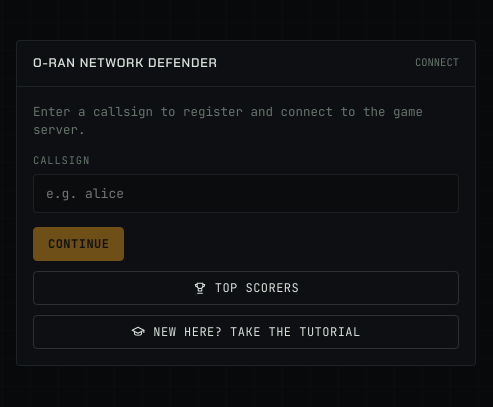
Test case: Lobby › surfaces API errors and generic network failures without changing steps
The image size is (493, 407).
Step 1. Type "alice" into the field with placeholder "e.g. alice" → (246, 194), box [33,174,459,213]
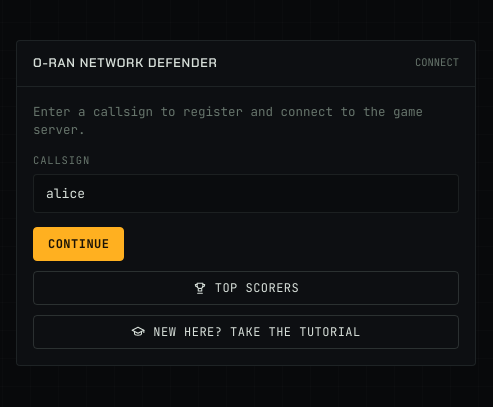
Step 2. Click the button "Continue" → (79, 244), box [33,227,124,261]
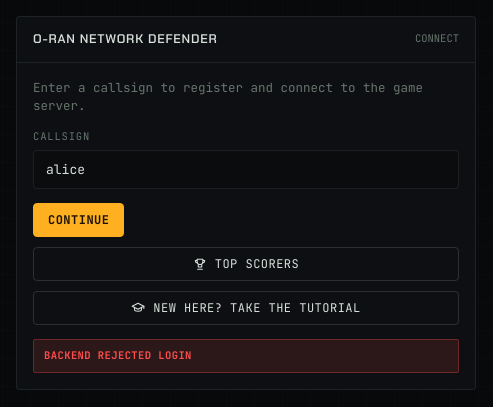
Now the text "Backend rejected login" is shown, box [33,339,459,373]
Step 3. Click the button "Top scorers" → (246, 264), box [33,247,459,281]
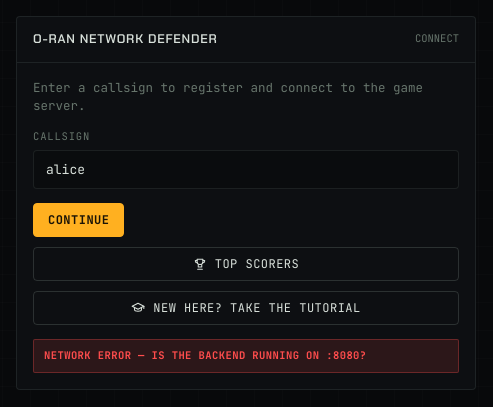
Now the text "Network error — is the backend running on :8080?" is shown, box [33,339,459,373]
